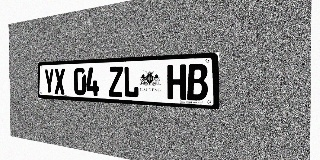0: (74, 68, 86, 96)
4: (86, 67, 99, 96)
B: (187, 64, 208, 101)
H: (167, 64, 186, 100)
L: (123, 66, 139, 98)
X: (54, 68, 65, 95)
Y: (44, 69, 54, 94)
Z: (108, 66, 123, 97)
